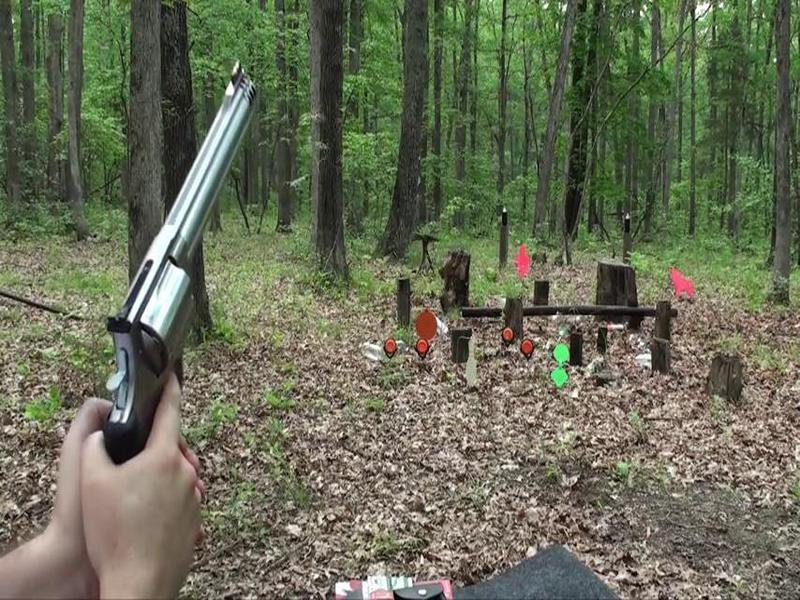Revolver: (93, 56, 268, 481)
